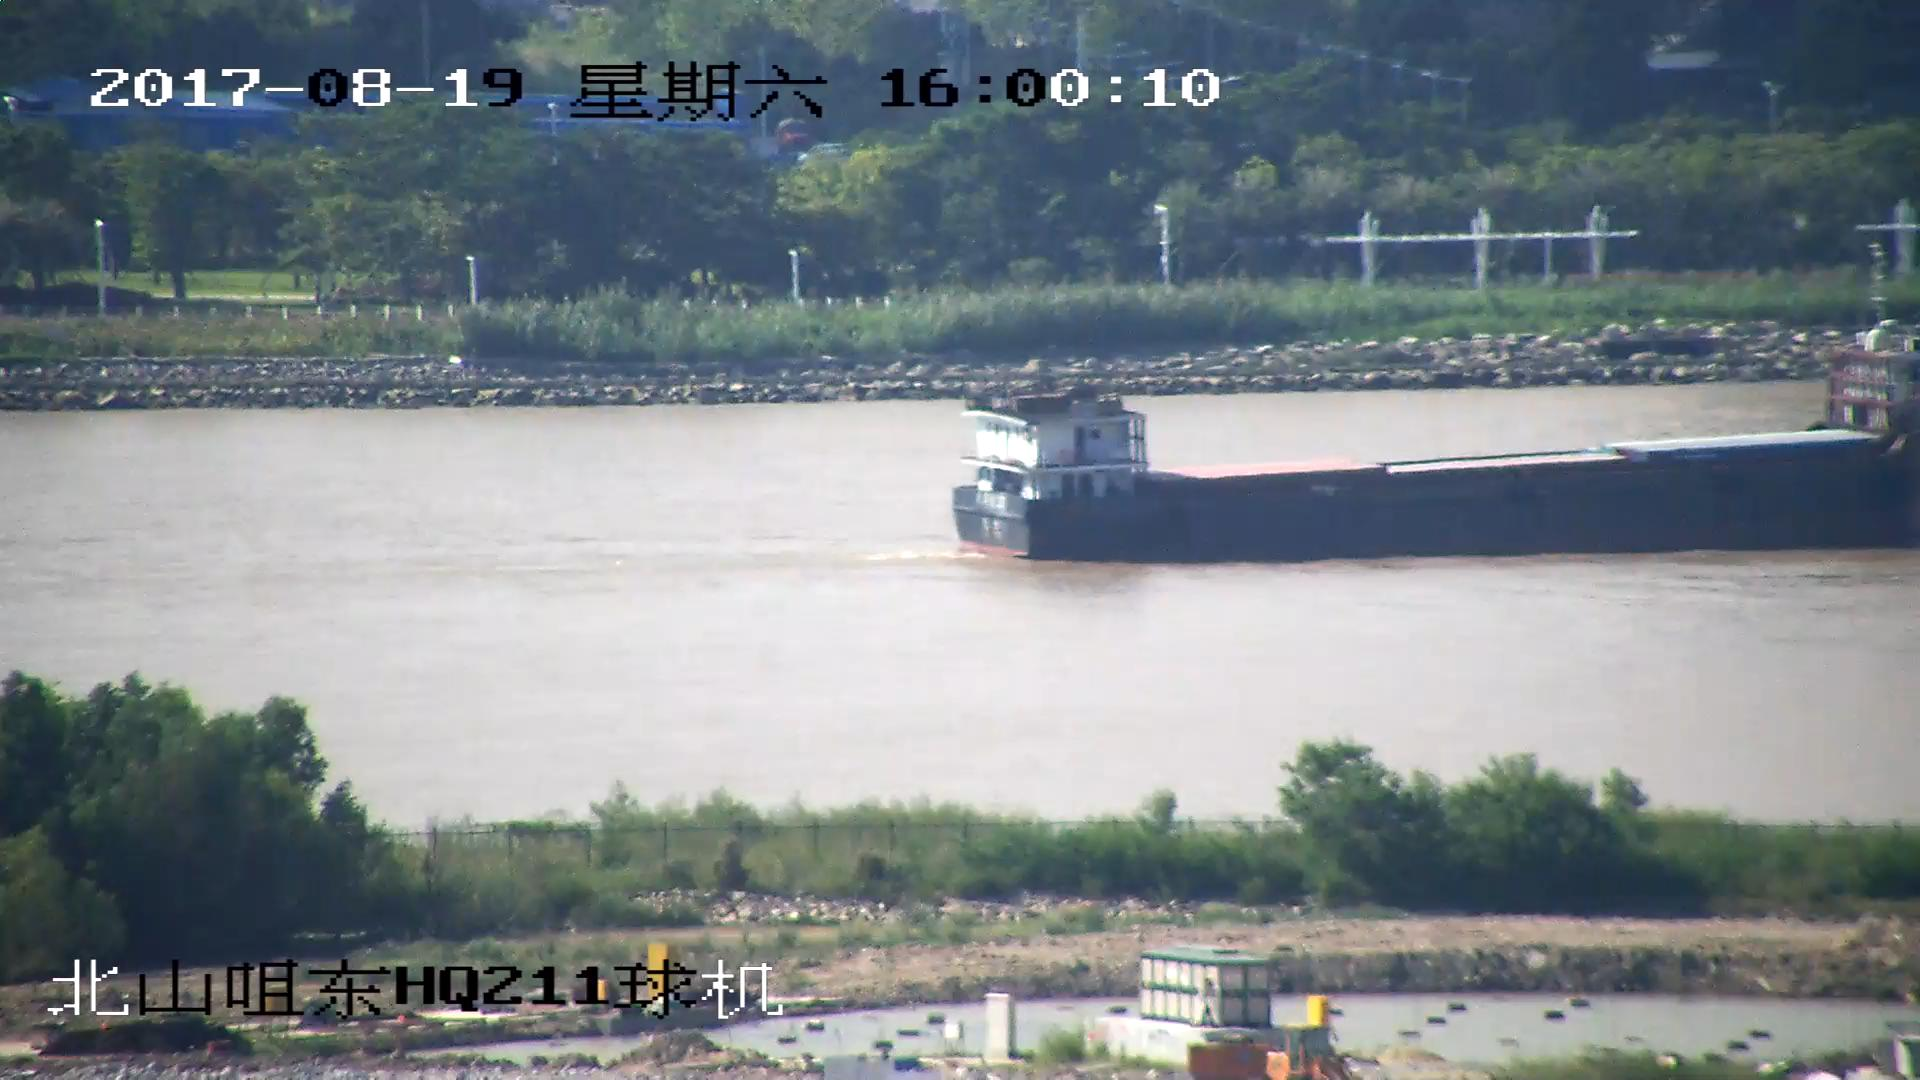general cargo ship: (944, 316, 1920, 569)
